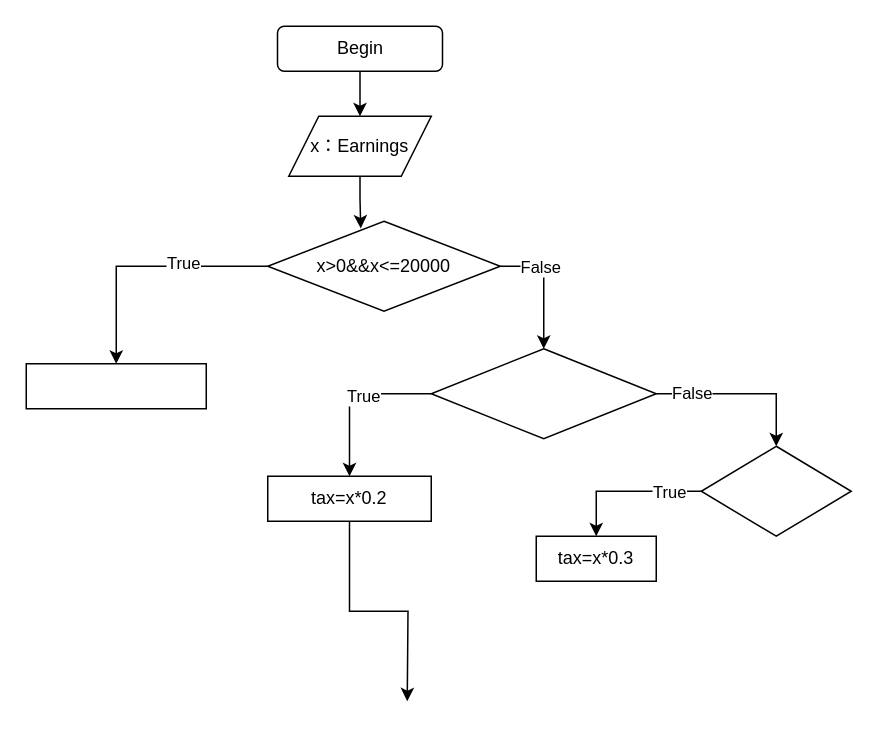
The diagram is 878 pixels wide and 740 high, and some of its shapes have lost their labels. The shapes that lost their labels are listed below. From the top down, each one's centre as x and y in pixels, then its label:
At (x=115, y=385): "tax=x*0.1".
At (x=543, y=393): "x>20000&&x<=100000".
At (x=775, y=490): "x>100000".
